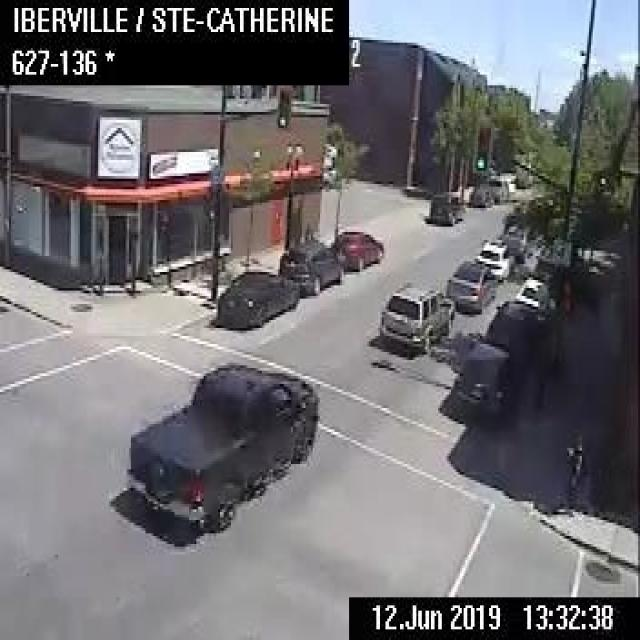pedestrian: (562, 424, 582, 507)
vehicle: (127, 360, 318, 525), (453, 343, 522, 424), (378, 280, 454, 350), (211, 269, 298, 328), (277, 238, 345, 293), (482, 298, 543, 357), (446, 258, 496, 310), (328, 230, 382, 269), (476, 237, 516, 282), (500, 220, 538, 258), (514, 273, 551, 310), (425, 189, 462, 224), (486, 169, 516, 202), (466, 182, 493, 205)
